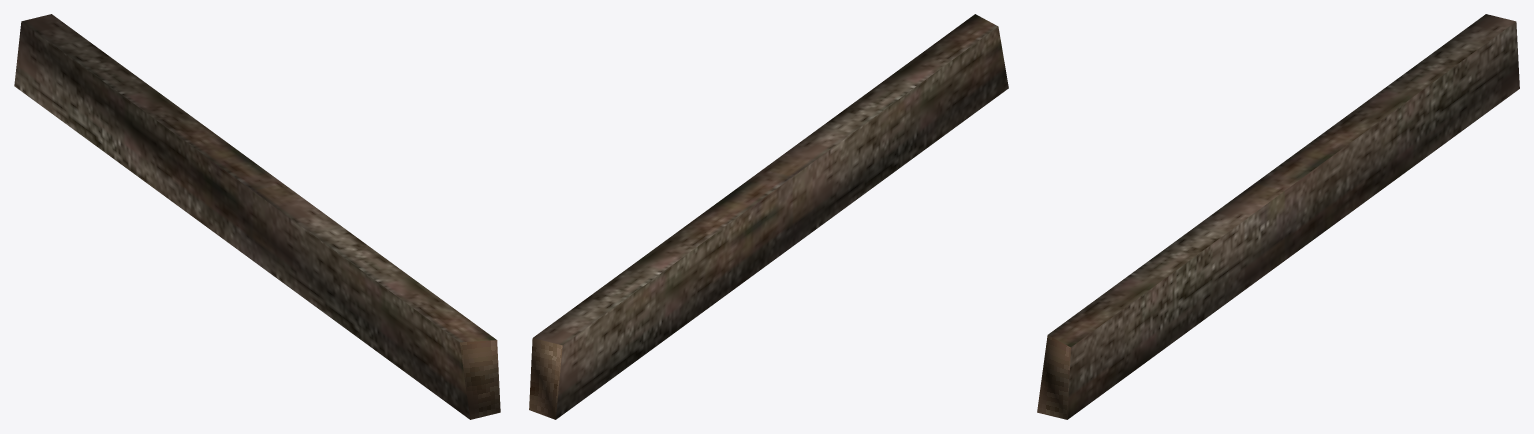
File: OW_LOB_WOODPLANKS_V3.glb
3 views of the same model, side by side, from view 1: azimuth 30°, elevation 25°; view 2: azimuth 150°, elevation 25°; view 3: azimuth 330°, elevation 25° (orthographic).
Parts seen in each view (by area): view 1: Mesh; view 2: Mesh; view 3: Mesh.
Part boxes in pixels (<box>): Mesh: <box>14,14,500,419</box>; Mesh: <box>529,14,1008,419</box>; Mesh: <box>1037,14,1519,419</box>.
Size of the model in its own units: 0.175 by 0.3849 by 4.55.
Materials: 2 (2 with a texture image).
